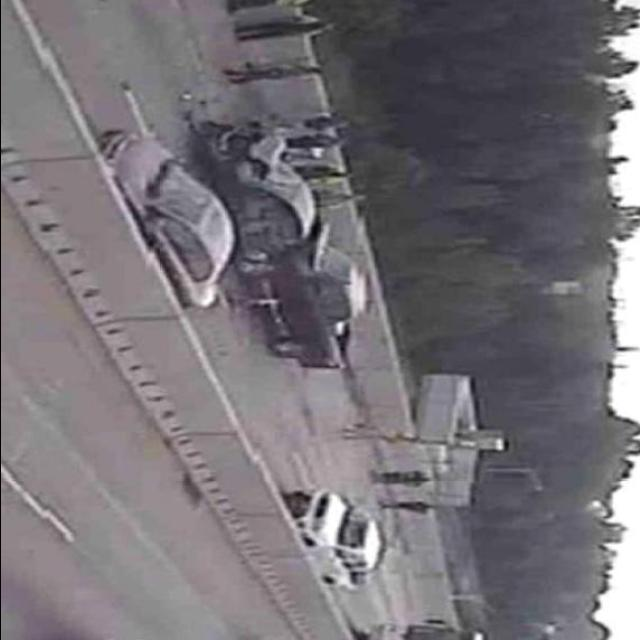accident: (193, 116, 375, 372)
